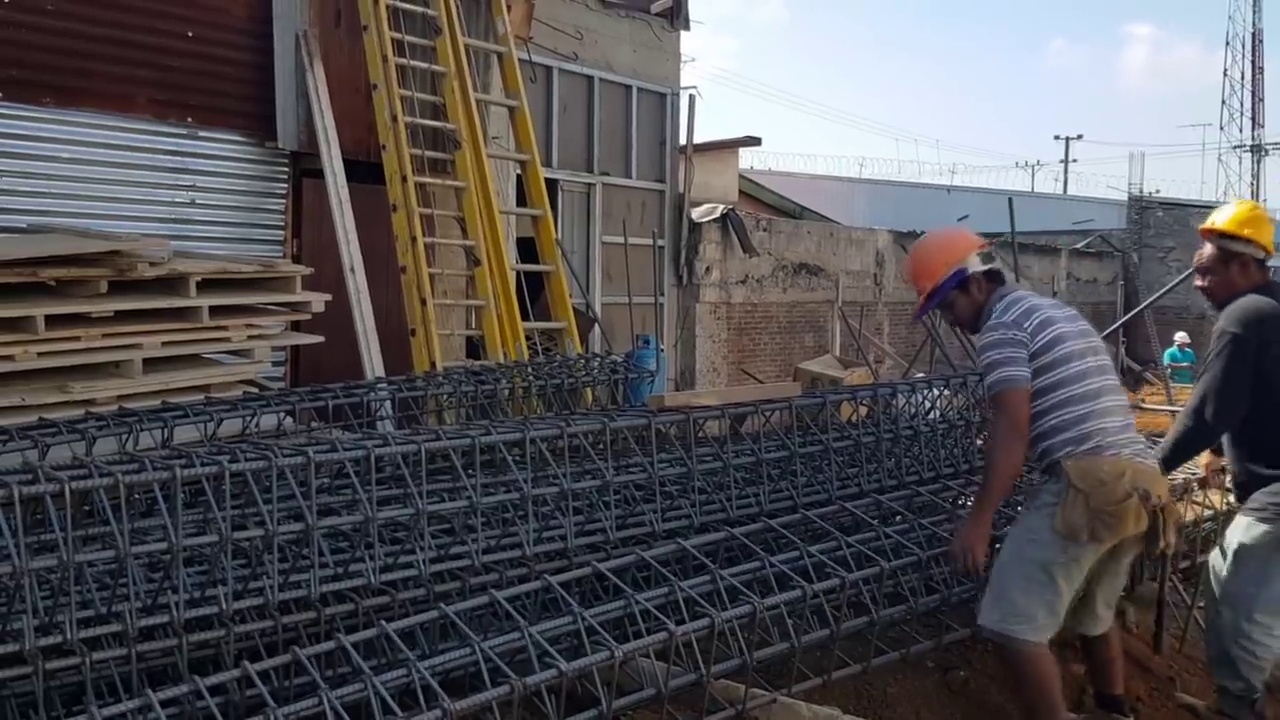helmet: (904, 221, 993, 317), (1193, 199, 1279, 257), (1173, 331, 1192, 343)
helmet-on: (901, 207, 1023, 348), (1191, 197, 1279, 316), (1172, 331, 1193, 350)
person: (898, 207, 1165, 718), (1157, 194, 1280, 717), (1163, 331, 1199, 397)
